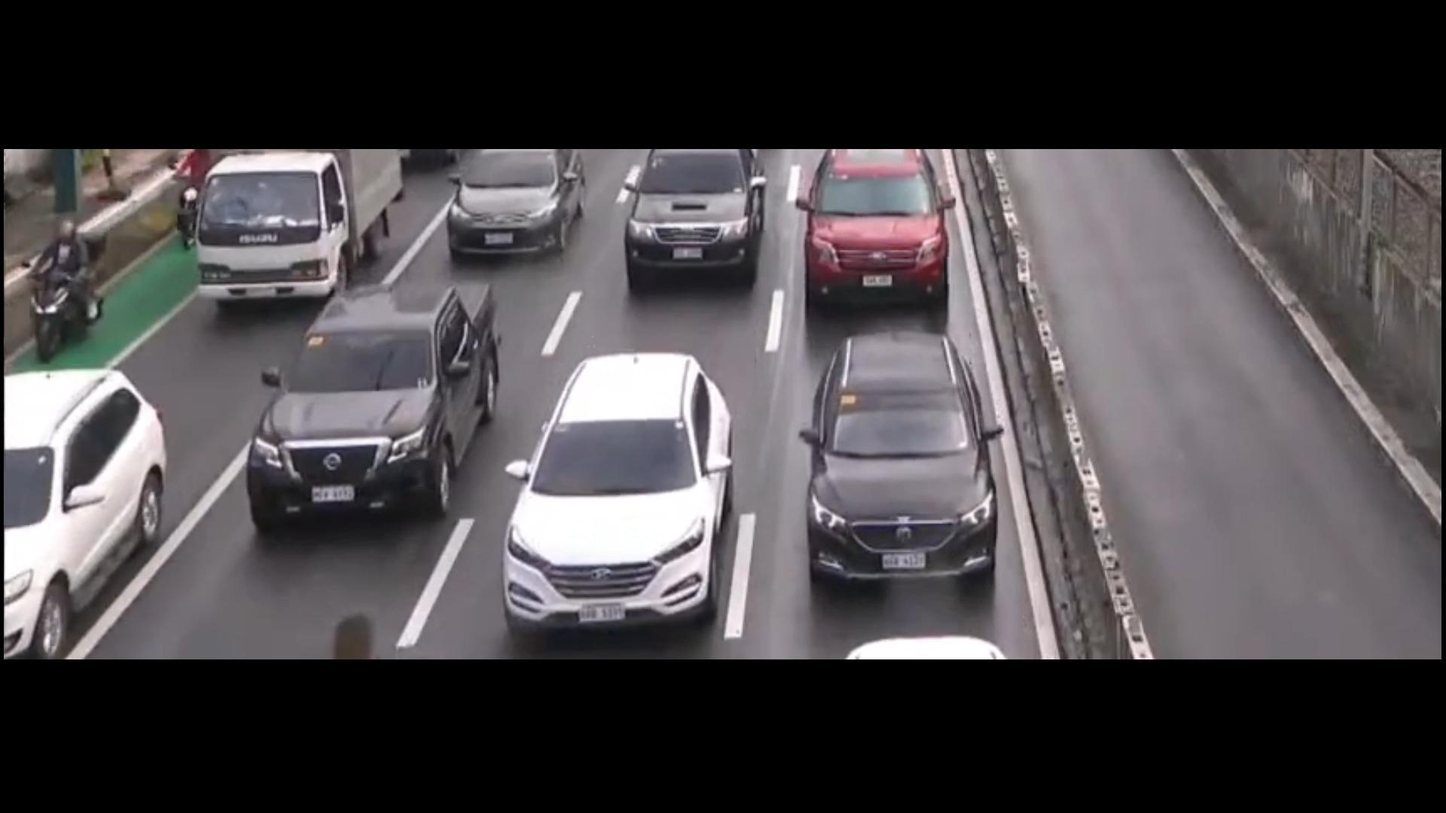Motorcycle: (21, 217, 112, 366), (167, 150, 219, 248)
Pickup: (243, 281, 499, 531)
SUV: (502, 349, 737, 640), (806, 332, 1003, 599), (5, 366, 173, 659), (804, 148, 944, 318), (627, 146, 769, 288)
Sedan: (443, 148, 587, 262)
Truck: (196, 150, 404, 306)
